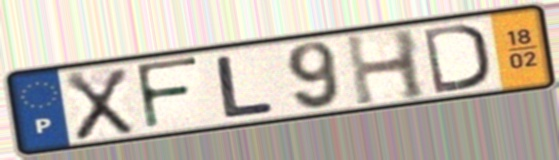9: (286, 37, 348, 112)
D: (419, 21, 492, 96)
F: (132, 54, 204, 132)
H: (341, 25, 432, 110)
L: (212, 53, 278, 120)
X: (62, 66, 137, 143)
